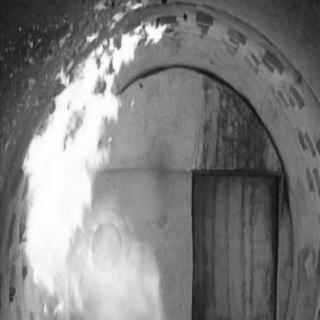Fire: (21, 20, 180, 312)
